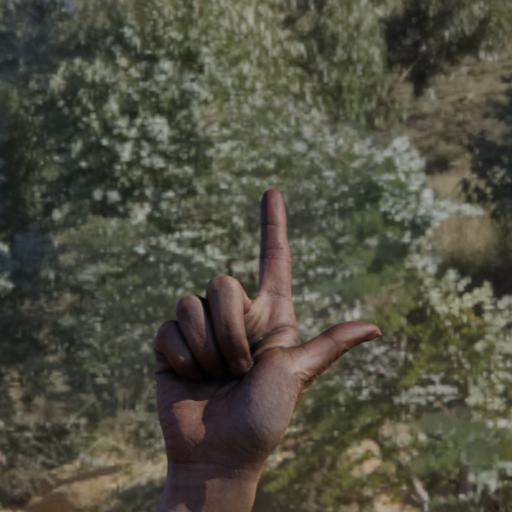L: (144, 185, 385, 462)
